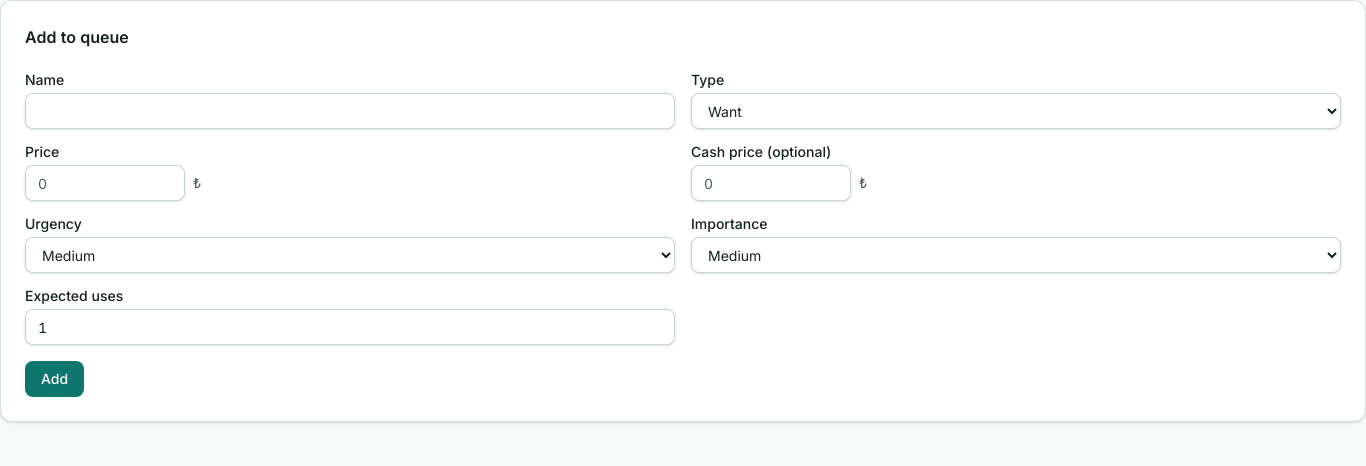
Test case: QueueForm › refuses an empty name or a zero price and says why
Click the button "Add" at (55, 379), box [25, 361, 84, 397]
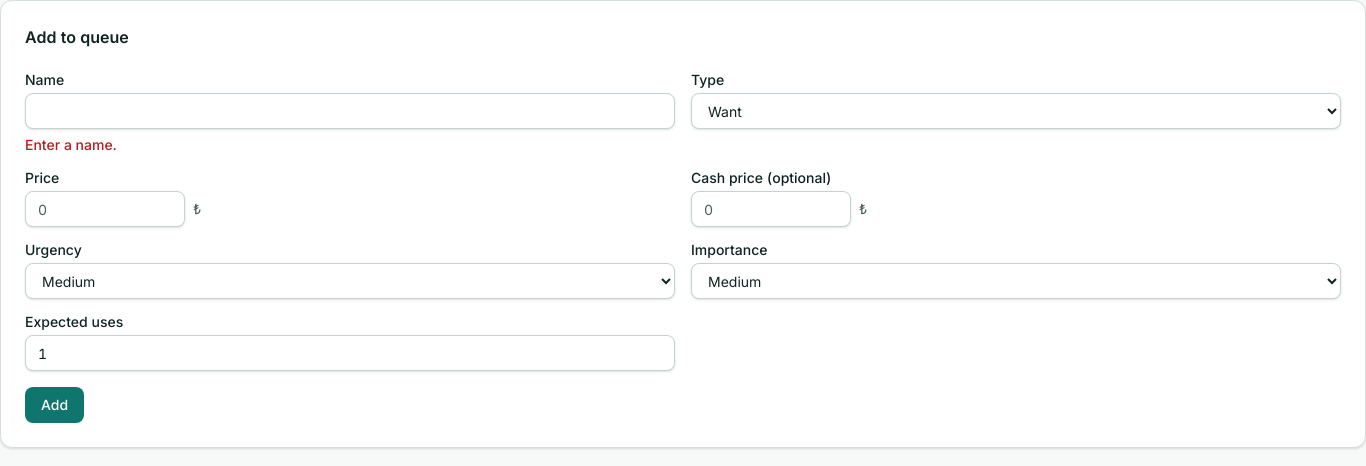
Expected: the text "Enter a name." is shown, [25, 136, 116, 153]
Type "Desk" into the field labelled "Name" at (350, 111), box [25, 93, 675, 129]
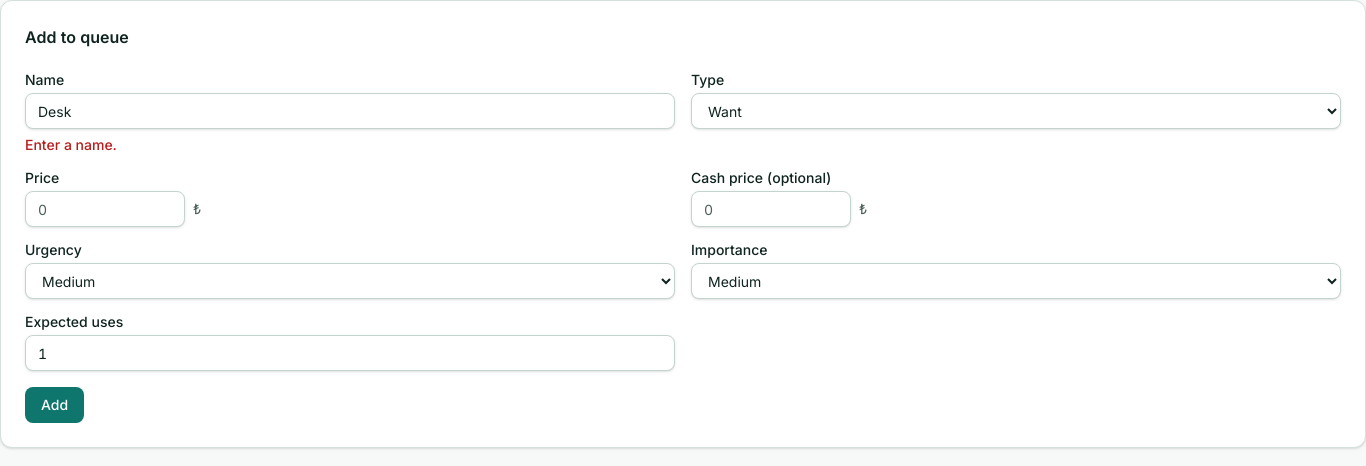
Click the button "Add" at (55, 405), box [25, 387, 84, 423]
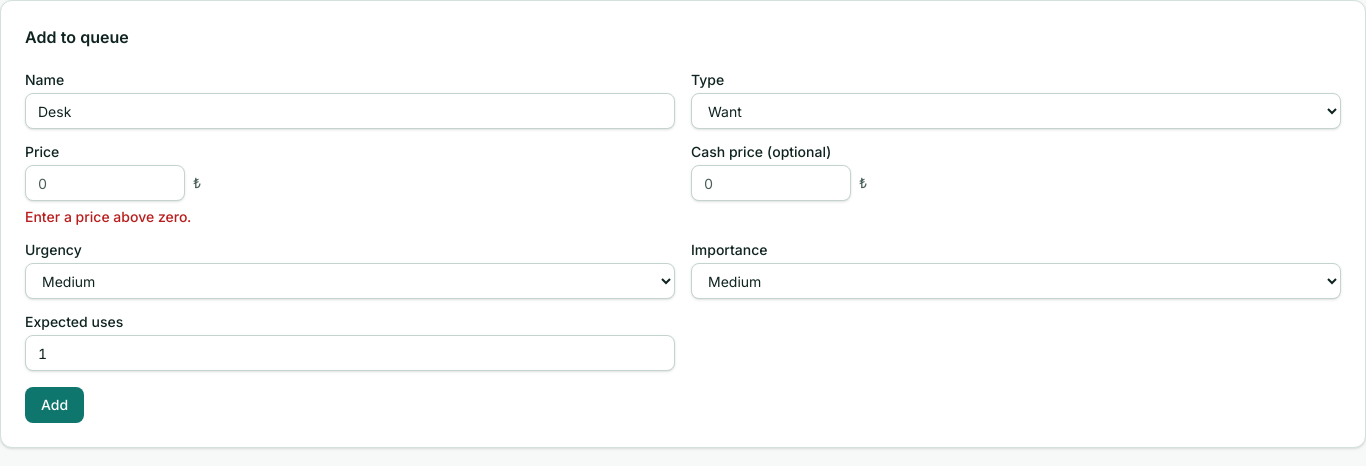
Expected: the text "Enter a price above zero." is shown, [25, 208, 191, 225]
